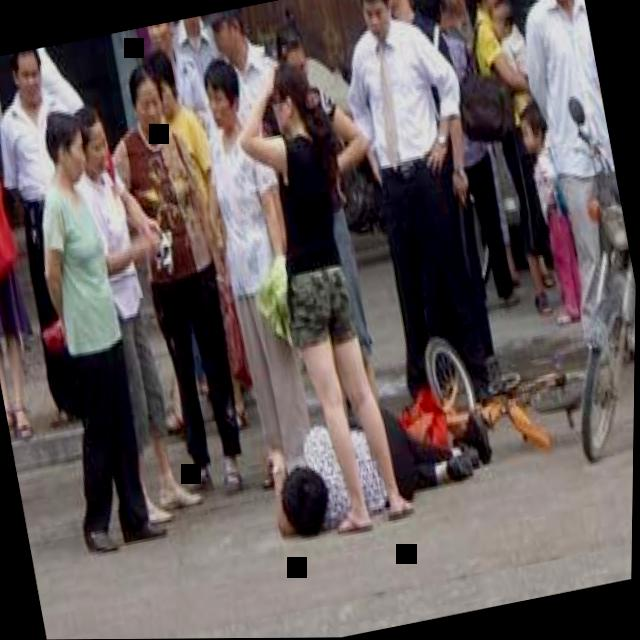Fall-Detected: (242, 352, 503, 533)
